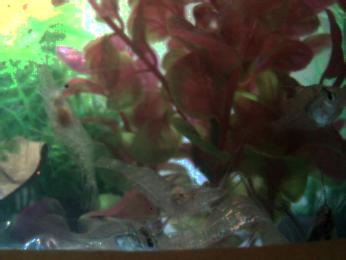X-ray fish: (272, 83, 345, 145), (57, 216, 156, 253)
siberian prawn: (35, 63, 99, 199), (97, 154, 225, 220)
